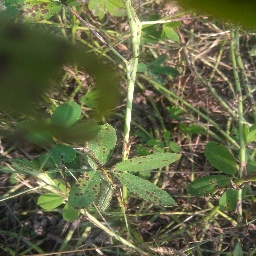GroundNut_Leaf: (117, 173, 178, 209), (114, 152, 184, 171), (67, 171, 103, 206), (202, 139, 236, 174), (95, 121, 117, 170), (186, 177, 239, 193), (53, 100, 83, 126), (36, 190, 65, 211)
